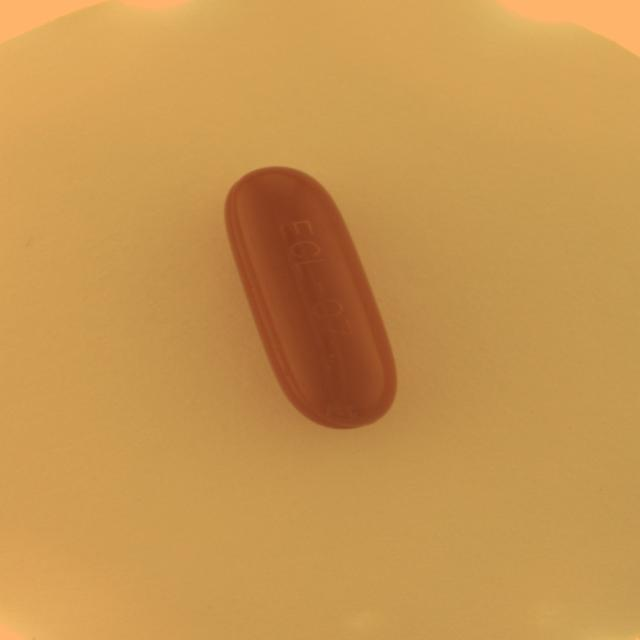Oval: (224, 159, 399, 432)
